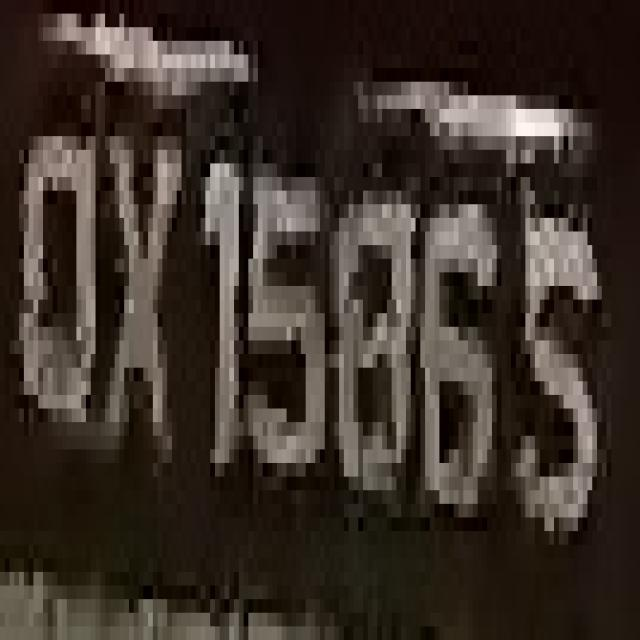1: (196, 82, 253, 517)
5: (253, 163, 330, 504)
6: (411, 122, 501, 544)
8: (315, 163, 411, 531)
Q: (15, 81, 96, 476)
S: (511, 177, 611, 545)
X: (81, 109, 177, 449)
